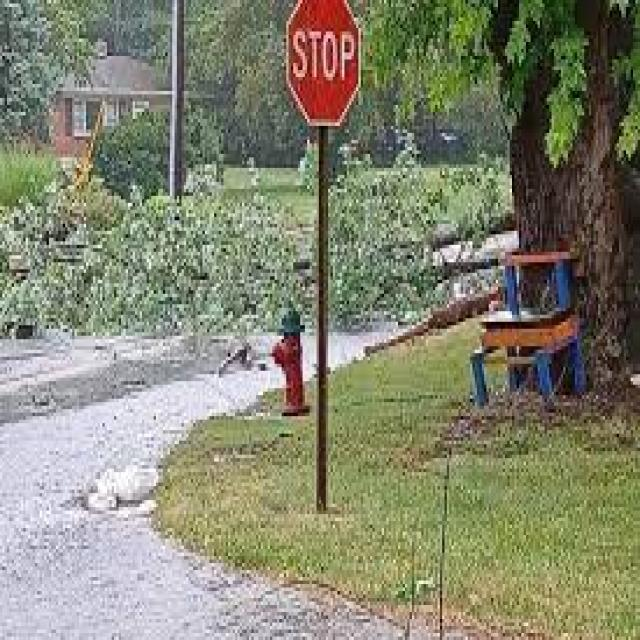stop-sign: (270, 0, 403, 140)
